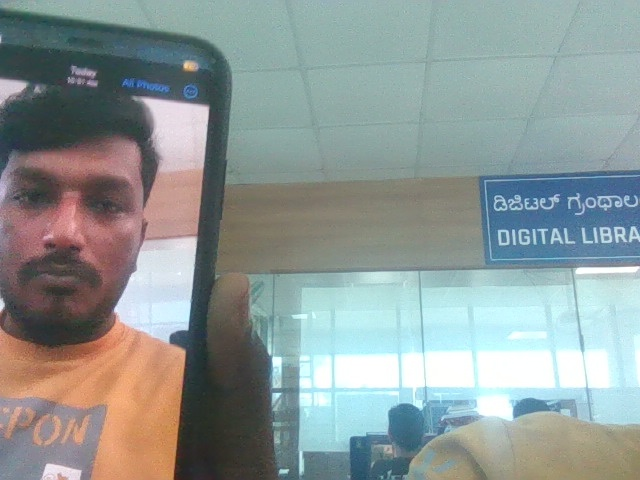fake: (0, 48, 213, 350)
